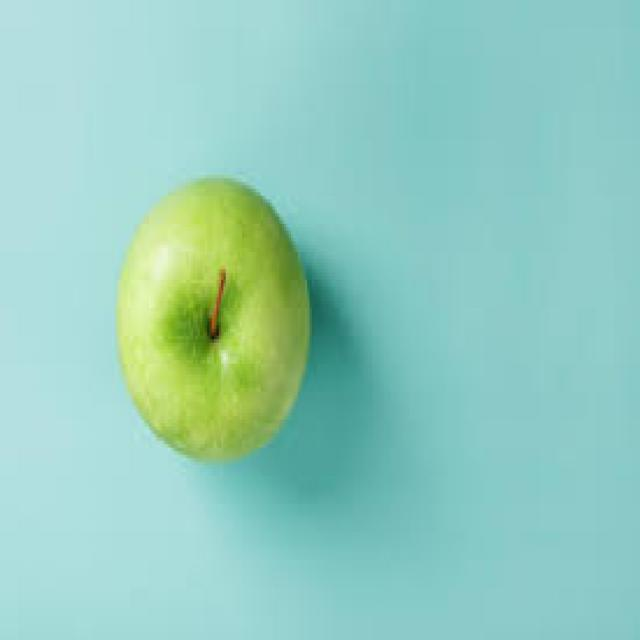Fresh Apple: (118, 183, 320, 462)
